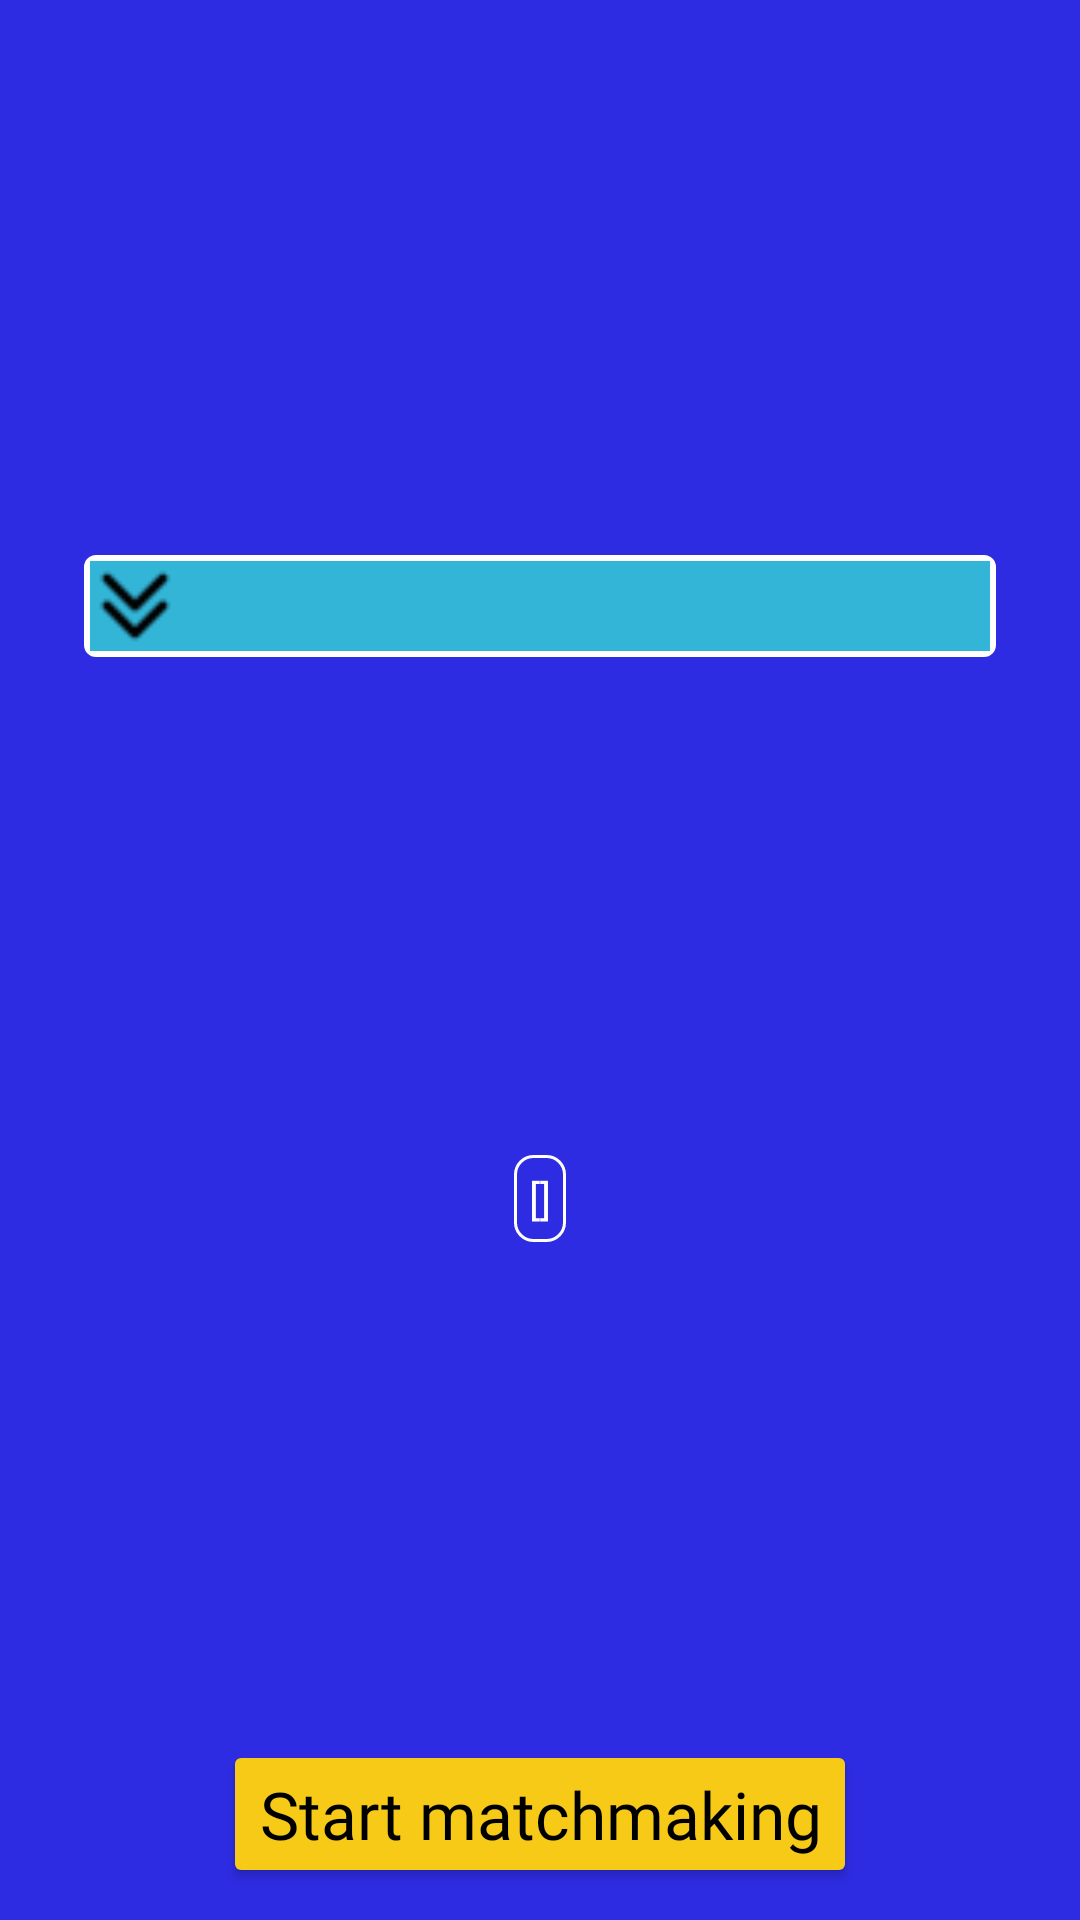

Screen size 1080px x 1920px. Icon name, then its box in pixels as [x1, y1, x2, y2]:
dropdown: [90, 561, 180, 651]
